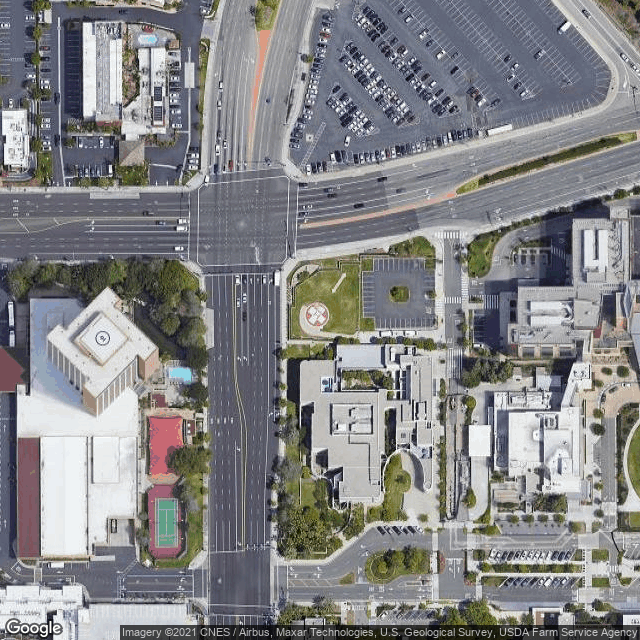Helipad: (68, 309, 134, 370), (302, 298, 332, 331)
